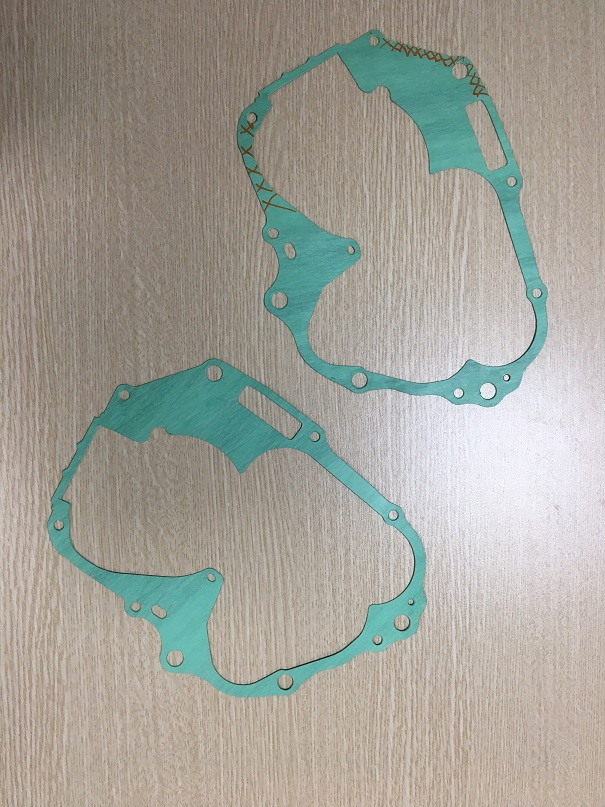type3: (38, 345, 439, 704), (229, 24, 552, 413)
